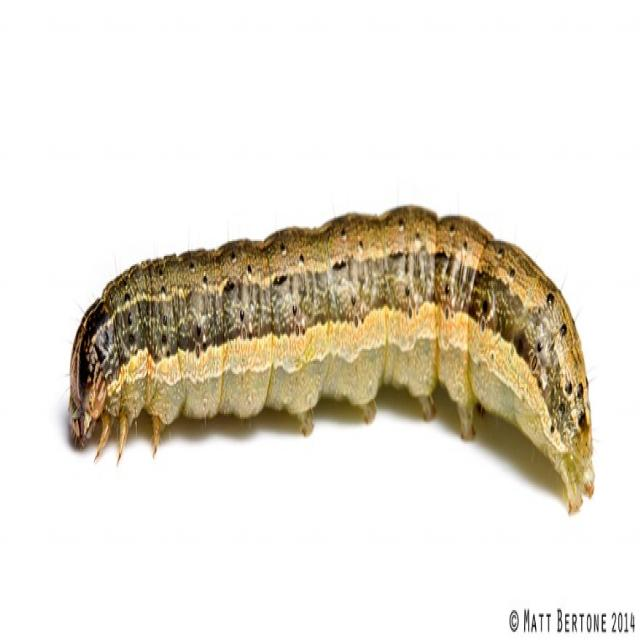armyworm: (64, 193, 601, 520)
